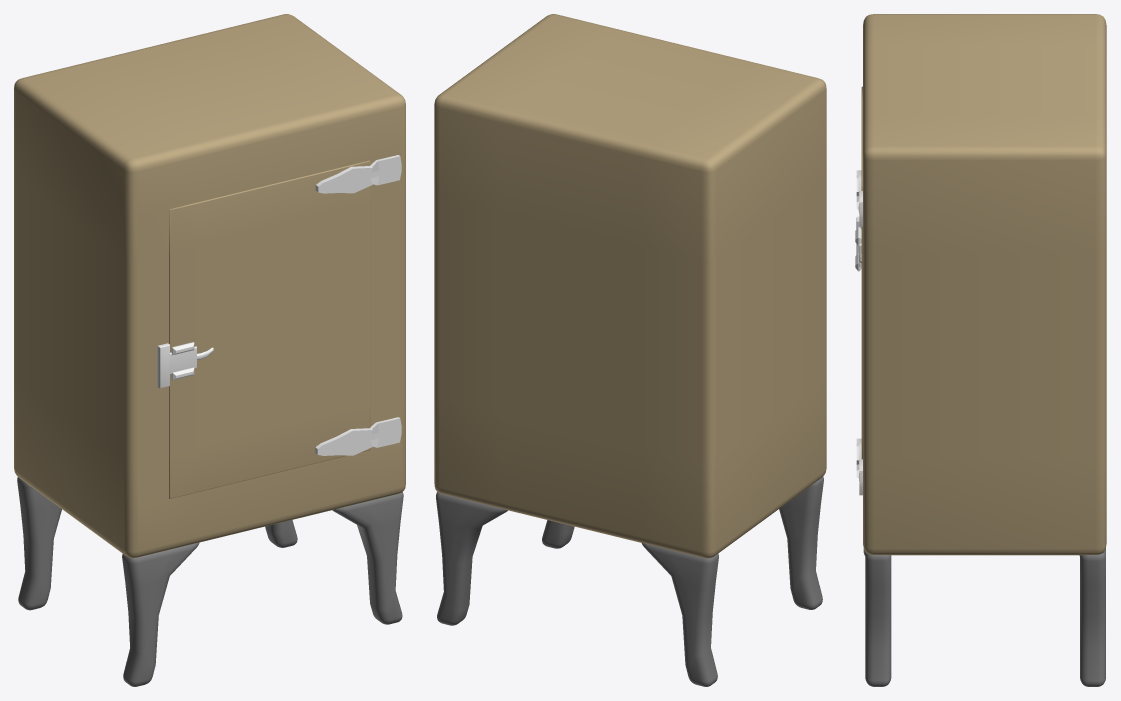
File: Nevera (2).fbx
3 views of the same model, side by side, from view 1: azimuth 30°, elevation 25°; view 2: azimuth 150°, elevation 25°; view 3: azimuth 270°, elevation 25° (orthographic). The views are drawn at different scales.
Visible parts, largest first — view 1: Nevera; view 2: Nevera; view 3: Nevera.
Boxes of the visible parts, x1,y1,x2,y2 form: Nevera: [14, 14, 405, 686]; Nevera: [434, 14, 826, 686]; Nevera: [855, 14, 1106, 686].
Size of the model in its own units: 20.23 by 36.42 by 15.34.
